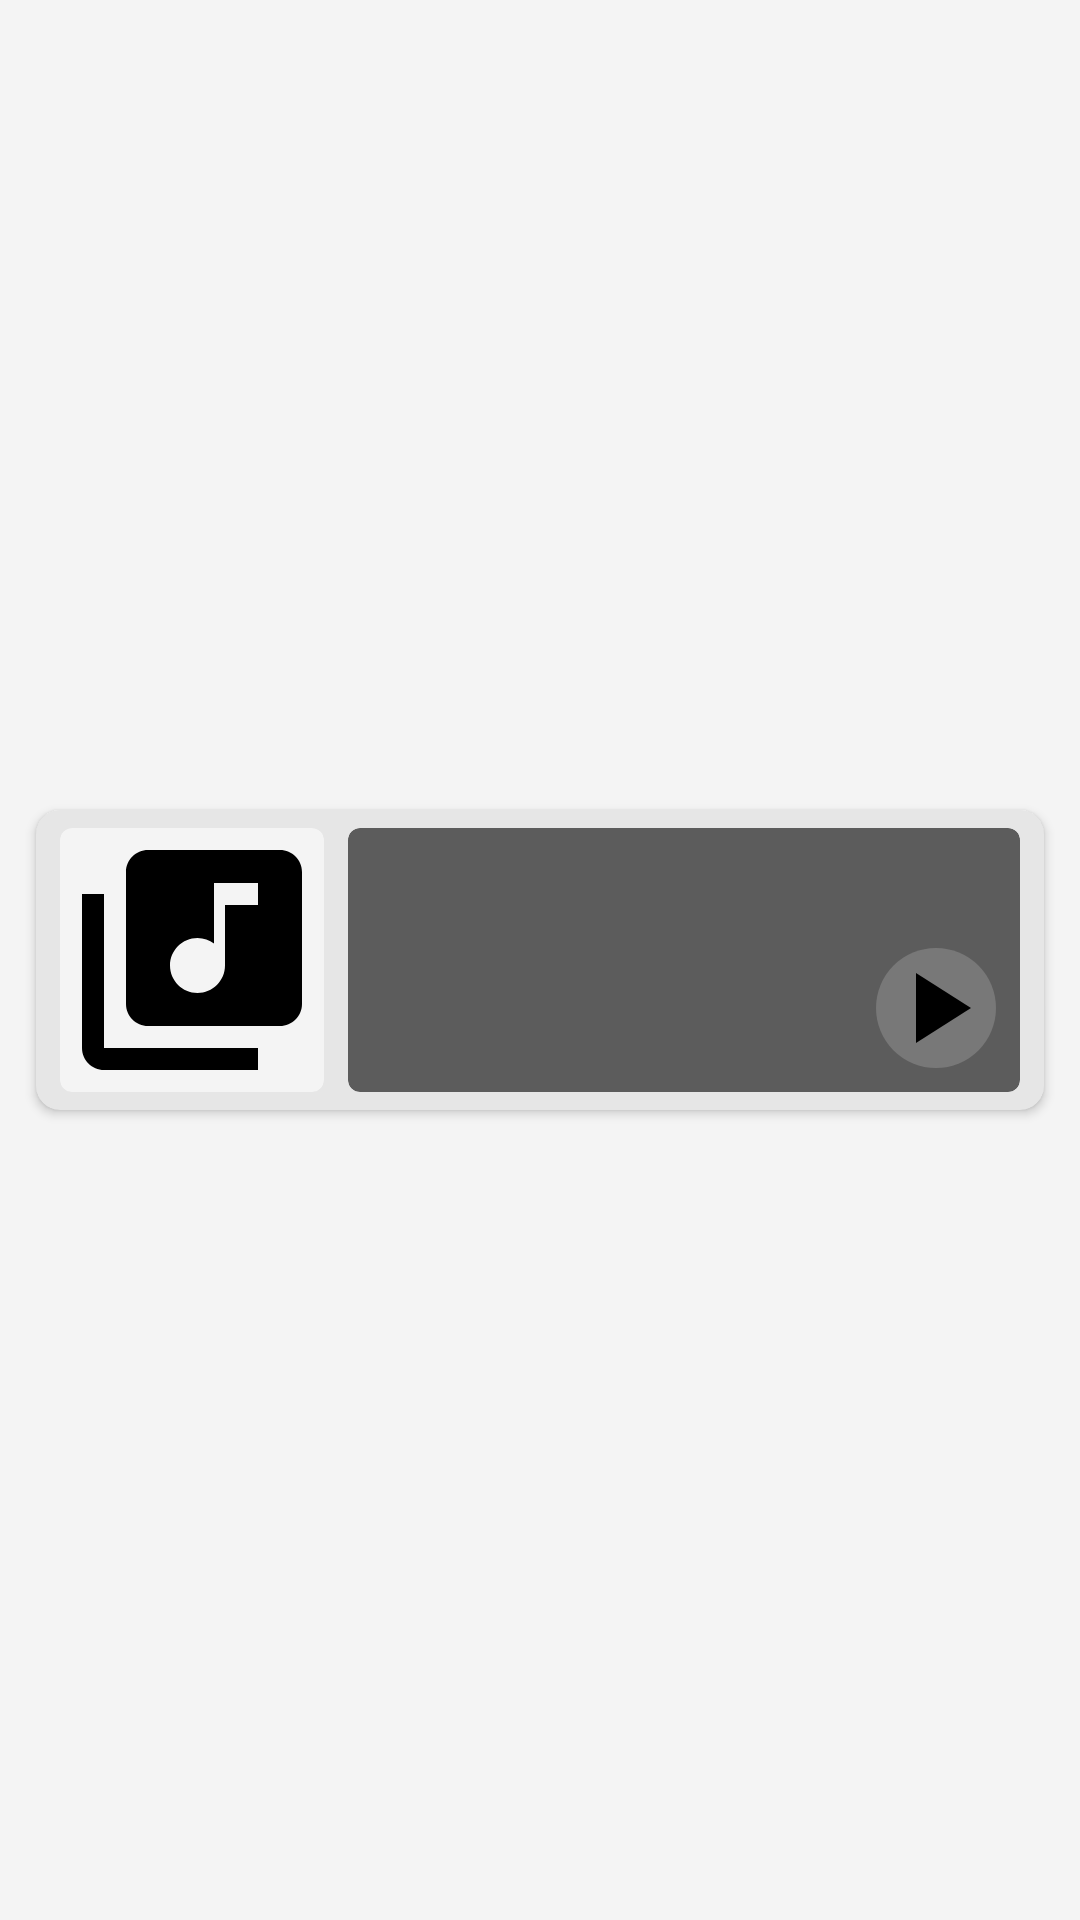

Screen size 1080w x 1920h. Icon name, then its center in pixels as [x,y]:
library music: [192,960]
play arrow: [936,1008]
